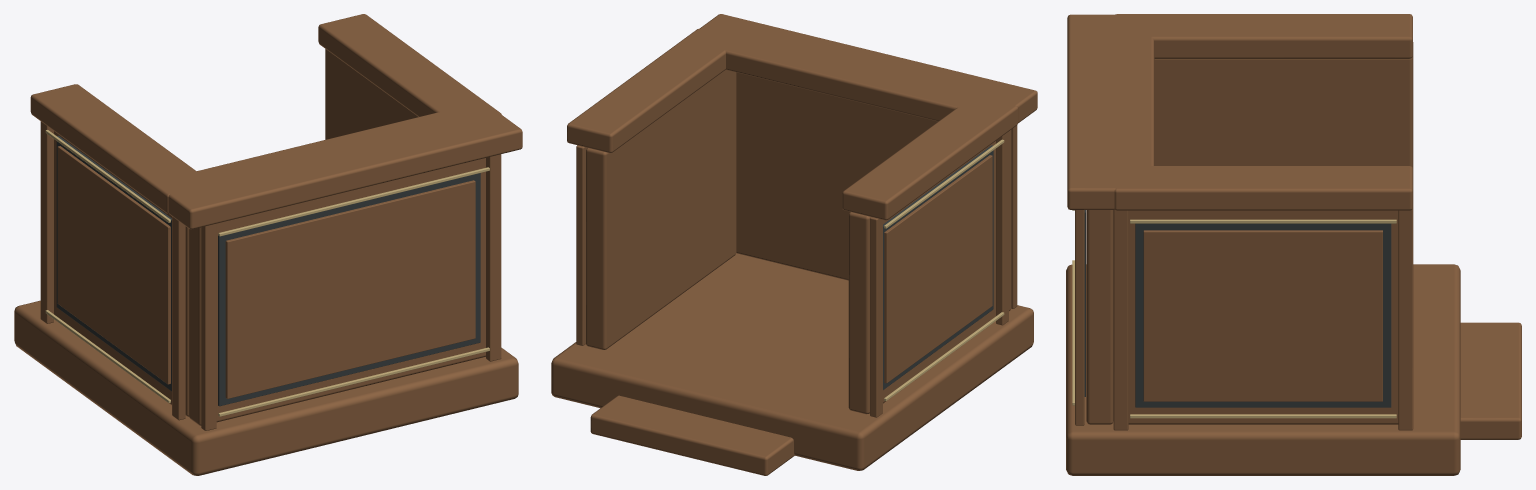
Rendered from tribunal_banco_testemunha.glb.
3 views of the same model, side by side, from view 1: azimuth 30°, elevation 25°; view 2: azimuth 150°, elevation 25°; view 3: azimuth 270°, elevation 25° (orthographic). The views are drawn at different scales.
Visible parts, largest first — view 1: city-courthouse-and-records-office-witness-stand; view 2: city-courthouse-and-records-office-witness-stand; view 3: city-courthouse-and-records-office-witness-stand.
Part boxes in pixels (x1=…): city-courthouse-and-records-office-witness-stand: x1=14, y1=14, x2=522, y2=475; city-courthouse-and-records-office-witness-stand: x1=551, y1=14, x2=1037, y2=475; city-courthouse-and-records-office-witness-stand: x1=1066, y1=14, x2=1521, y2=475.
Size of the model in its own units: 1.54 by 1.18 by 1.68.
